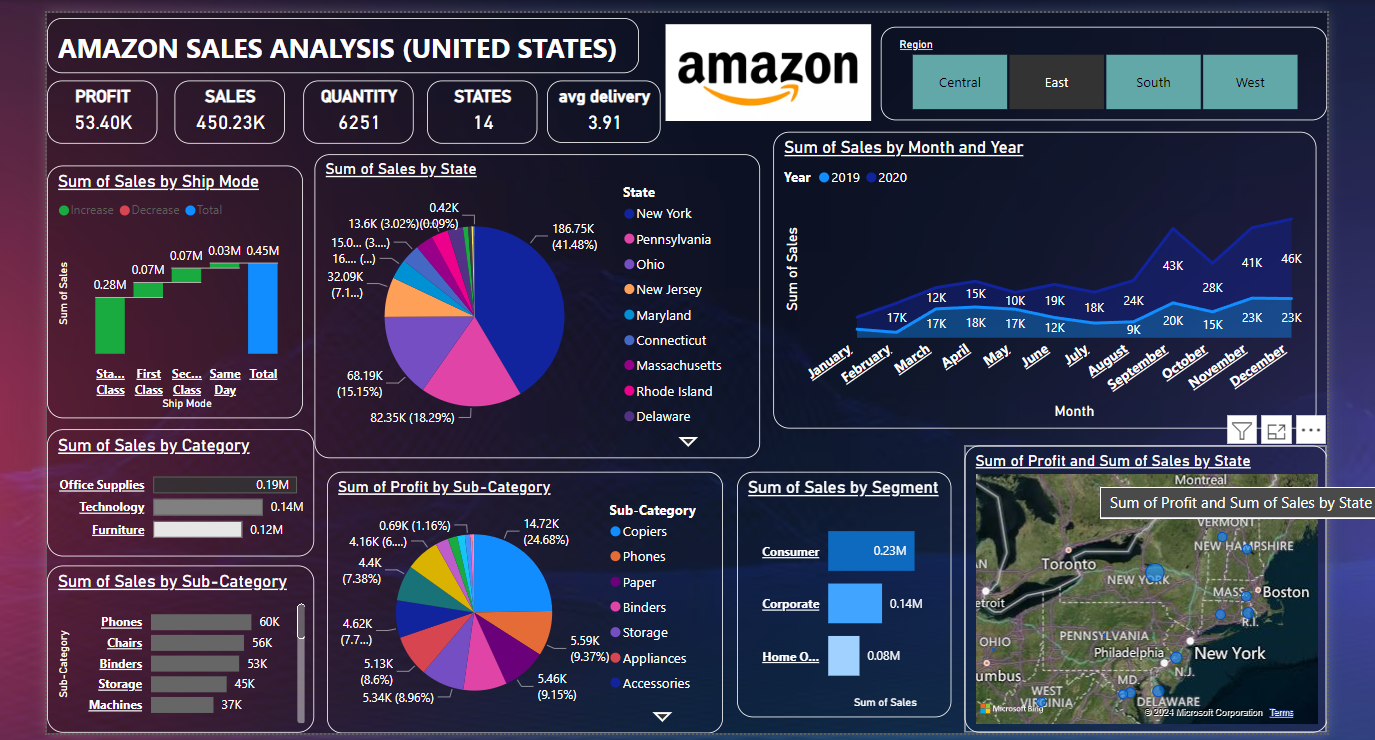

Layout of this report page (visuals, bound fields, positions):
{"tool":"powerbi","page":{"name":"Page 1","canvas":[1280,720],"ordinal":0},"visuals":[{"type":"barChart","fields":{"Category":["SuperStore_Sales_Dataset.Category"],"Y":["Sum(SuperStore_Sales_Dataset.Sales)"]},"box":[0,415.7,267.1,127.1],"z":0},{"type":"clusteredBarChart","fields":{"Category":["SuperStore_Sales_Dataset.Sub-Category"],"Y":["Sum(SuperStore_Sales_Dataset.Sales)"]},"box":[0,552.9,267.1,167.1],"z":1000},{"type":"waterfallChart","fields":{"Category":["SuperStore_Sales_Dataset.Ship Mode"],"Y":["Sum(SuperStore_Sales_Dataset.Sales)"]},"box":[0,152.9,255.7,252.9],"z":2000},{"type":"stackedAreaChart","fields":{"Y":["Sum(SuperStore_Sales_Dataset.Sales)"],"Category":["SuperStore_Sales_Dataset.Order Date.Variation.Date Hierarchy.Month"],"Series":["SuperStore_Sales_Dataset.Order Date.Variation.Date Hierarchy.Year"]},"box":[725.7,118.6,542.9,297.1],"z":3000},{"type":"pieChart","fields":{"Category":["SuperStore_Sales_Dataset.Sub-Category"],"Y":["Sum(SuperStore_Sales_Dataset.Profit)"]},"box":[280,458.6,395.7,261.4],"z":4000},{"type":"map","fields":{"Category":["SuperStore_Sales_Dataset.State"],"Size":["Sum(SuperStore_Sales_Dataset.Profit)"]},"box":[917.1,432.9,362.9,287.1],"z":5000},{"type":"barChart","fields":{"Category":["SuperStore_Sales_Dataset.Segment"],"Y":["Sum(SuperStore_Sales_Dataset.Sales)"]},"box":[690,458.6,214.3,245.7],"z":6000},{"type":"slicer","fields":{"Values":["SuperStore_Sales_Dataset.Region"]},"box":[833.3,13.3,446.7,93.3],"z":7000},{"type":"textbox","box":[0,5,591.7,55],"z":8000},{"type":"card","title":"PROFIT","fields":{"Values":["Sum(SuperStore_Sales_Dataset.Profit)"]},"box":[0,67.1,110,62.9],"z":9000},{"type":"card","title":"SALES","fields":{"Values":["Sum(SuperStore_Sales_Dataset.Sales)"]},"box":[127.1,67.1,110,62.9],"z":10000},{"type":"card","title":"QUANTITY","fields":{"Values":["Sum(SuperStore_Sales_Dataset.Quantity)"]},"box":[255.7,67.1,110,62.9],"z":11000},{"type":"card","title":"STATES","fields":{"Values":["Count(SuperStore_Sales_Dataset.State)"]},"box":[380,67.1,110,62.9],"z":12000},{"type":"pieChart","fields":{"Category":["SuperStore_Sales_Dataset.State"],"Y":["Sum(SuperStore_Sales_Dataset.Sales)"]},"box":[267.1,141.4,445.7,304.3],"z":13000},{"type":"image","box":[613.8,0,215,118.8],"z":14000},{"type":"card","title":"avg delivery","fields":{"Values":["Avg(SuperStore_Sales_Dataset.AvgDelivery)"]},"box":[500,67.5,113.8,62.5],"z":15000}]}

Visuals, with their boxes on the page's 1280x720 design canvas (x1, y1, x2, y2). These are canvas units, not pixel positions in the 1375x740 screenshot, which may show the page scaled, cropped or inside an application window:
barChart - SuperStore_Sales_Dataset.Category x Sum(SuperStore_Sales_Dataset.Sales): <box>0,416,267,543</box>
clusteredBarChart - SuperStore_Sales_Dataset.Sub-Category x Sum(SuperStore_Sales_Dataset.Sales): <box>0,553,267,720</box>
waterfallChart - SuperStore_Sales_Dataset.Ship Mode x Sum(SuperStore_Sales_Dataset.Sales): <box>0,153,256,406</box>
stackedAreaChart - Sum(SuperStore_Sales_Dataset.Sales) x SuperStore_Sales_Dataset.Order Date.Variation.Date Hierarchy.Month: <box>726,119,1269,416</box>
pieChart - SuperStore_Sales_Dataset.Sub-Category x Sum(SuperStore_Sales_Dataset.Profit): <box>280,459,676,720</box>
map - SuperStore_Sales_Dataset.State x Sum(SuperStore_Sales_Dataset.Profit): <box>917,433,1280,720</box>
barChart - SuperStore_Sales_Dataset.Segment x Sum(SuperStore_Sales_Dataset.Sales): <box>690,459,904,704</box>
slicer - SuperStore_Sales_Dataset.Region: <box>833,13,1280,107</box>
textbox: <box>0,5,592,60</box>
"PROFIT" card: <box>0,67,110,130</box>
"SALES" card: <box>127,67,237,130</box>
"QUANTITY" card: <box>256,67,366,130</box>
"STATES" card: <box>380,67,490,130</box>
pieChart - SuperStore_Sales_Dataset.State x Sum(SuperStore_Sales_Dataset.Sales): <box>267,141,713,446</box>
image: <box>614,0,829,119</box>
"avg delivery" card: <box>500,68,614,130</box>
